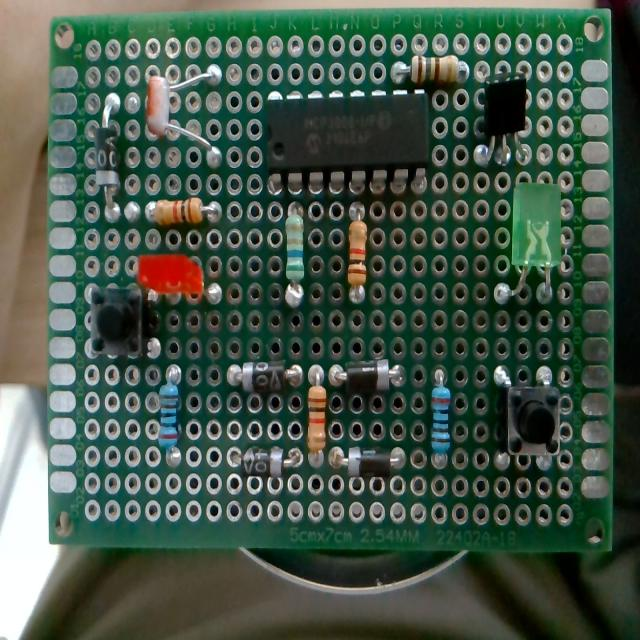IC: (259, 90, 433, 194)
cds: (143, 61, 224, 168)
diode: (97, 94, 122, 203), (228, 360, 303, 393), (233, 445, 301, 479), (337, 359, 400, 393), (332, 446, 401, 476)
led: (508, 182, 560, 305), (136, 252, 205, 296)
resistor: (284, 206, 305, 308), (392, 55, 461, 86), (149, 197, 223, 225), (431, 368, 452, 458), (158, 374, 182, 451), (307, 364, 327, 455), (347, 217, 367, 294)
switch: (493, 367, 562, 459), (89, 285, 146, 356)
transistor: (471, 69, 530, 168)
